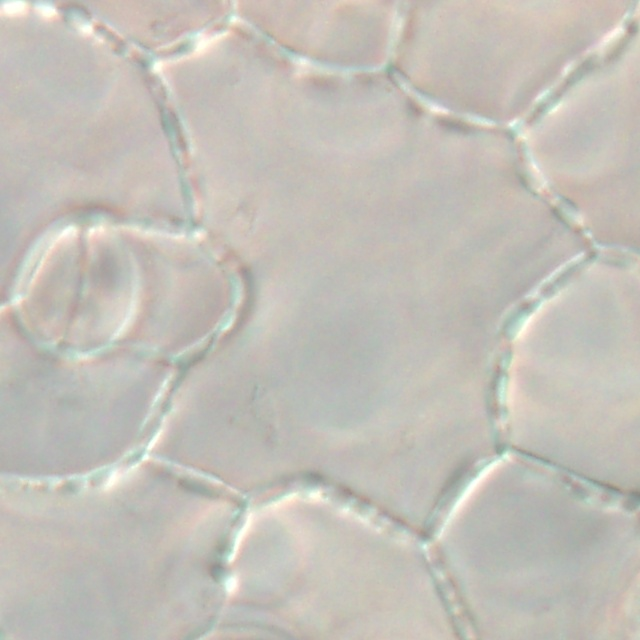center: (59, 247, 99, 320)
stomata-huw1: (8, 211, 144, 358)
